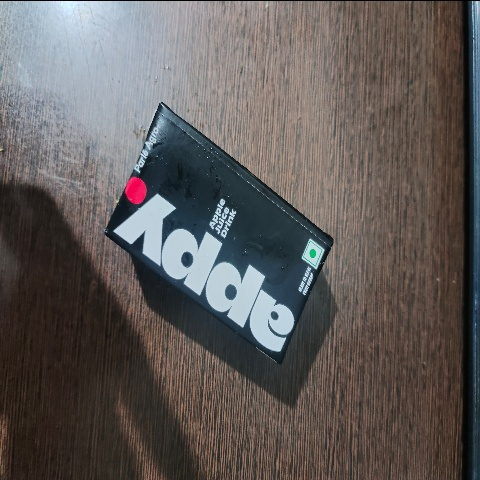appy: (107, 92, 345, 375)
